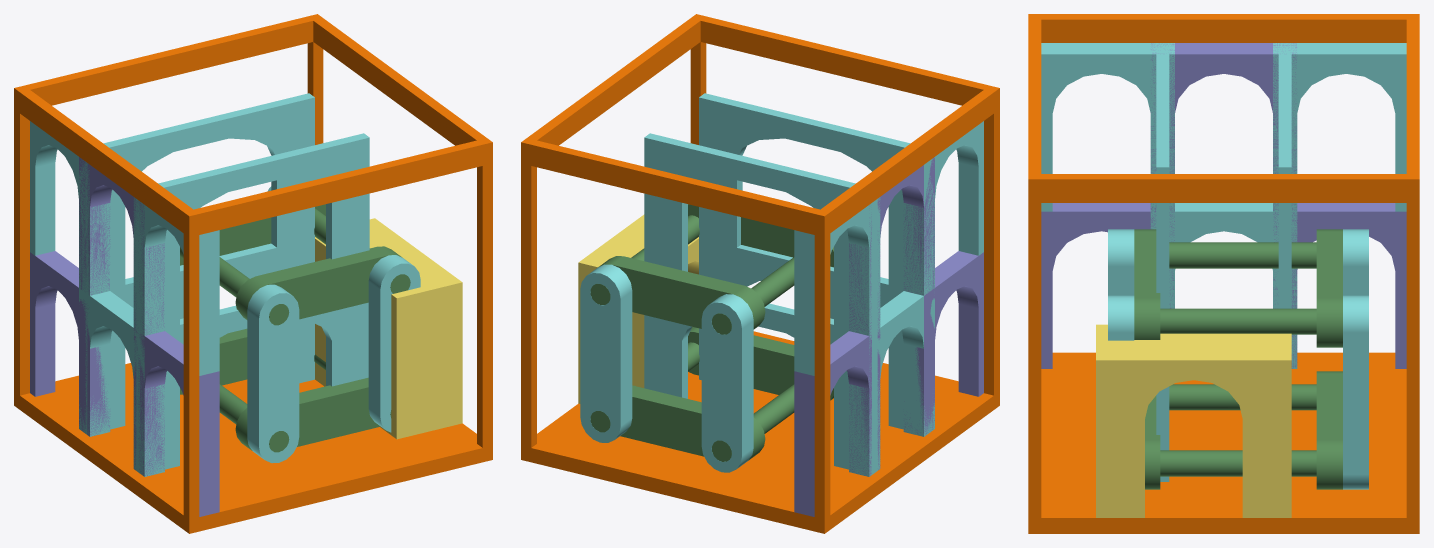
The picture shows the model from 3 angles, left to right: view 1: azimuth 30°, elevation 25°; view 2: azimuth 150°, elevation 25°; view 3: azimuth 270°, elevation 25°; orthographic projection. The views are drawn at different scales.
Visible parts, largest first — view 1: 物件_24, 物件_23, 物件_13, 物件_15, 物件_12, 物件_31, 物件_30, 物件_22, 物件_21, 物件_17, 物件_18, 物件_14 (+17 smaller); view 2: 物件_24, 物件_15, 物件_13, 物件_10, 物件_7, 物件_30, 物件_31, 物件_17, 物件_21, 物件_22, 物件_16, 物件_20 (+18 smaller); view 3: 物件_24, 物件_23, 物件_32, 物件_29, 物件_18, 物件_17, 物件_21, 物件_19, 物件_22, 物件_20, 物件_7, 物件_25 (+17 smaller).
Boxes of the visible parts, x1,y1,x2,y2 form: 物件_24: (14,363,492,533); 物件_23: (315,218,462,439); 物件_13: (136,133,369,333); 物件_15: (82,93,314,293); 物件_12: (247,284,299,463); 物件_31: (184,138,492,235); 物件_30: (14,14,322,113); 物件_22: (133,328,219,516); 物件_21: (30,251,110,436); 物件_17: (133,197,219,375); 物件_18: (30,121,110,295); 物件_14: (136,302,368,473); 物件_24: (521,331,999,533); 物件_15: (644,133,877,333); 物件_13: (699,93,910,288); 物件_10: (701,294,753,472); 物件_7: (580,264,632,442); 物件_30: (521,138,830,235); 物件_31: (692,14,997,105); 物件_17: (903,121,983,295); 物件_21: (794,329,880,516); 物件_22: (904,251,983,436); 物件_16: (644,303,877,474); 物件_20: (849,291,934,476); 物件_24: (1028,352,1419,533); 物件_23: (1096,324,1291,517); 物件_32: (1029,174,1419,202); 物件_29: (1028,14,1419,42); 物件_18: (1273,43,1406,211); 物件_17: (1041,43,1174,211); 物件_21: (1273,203,1406,368); 物件_19: (1150,43,1296,211); 物件_22: (1041,203,1174,368); 物件_20: (1150,203,1297,368); 物件_7: (1343,295,1368,489); 物件_25: (1028,174,1041,517).
Size of the model in its own units: 48 by 48 by 48.
